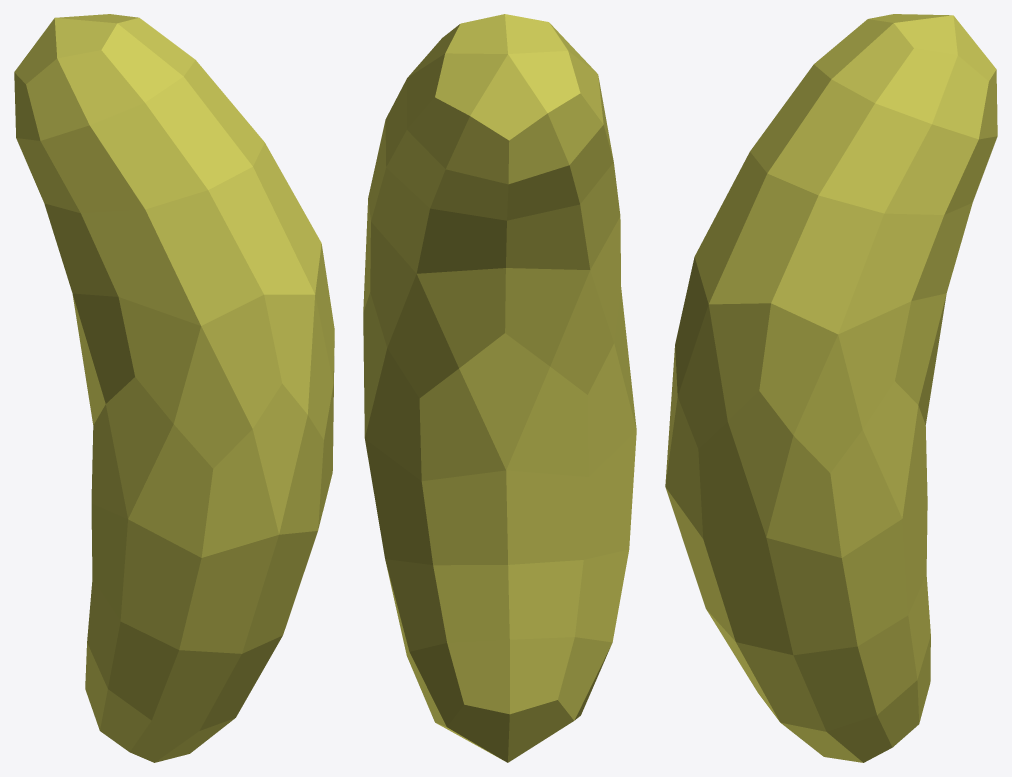
File: Platano.fbx
The picture shows the model from 3 angles, left to right: view 1: azimuth 30°, elevation 25°; view 2: azimuth 150°, elevation 25°; view 3: azimuth 270°, elevation 25°; orthographic projection. The views are drawn at different scales.
Visible parts, largest first — view 1: Icosphere; view 2: Icosphere; view 3: Icosphere.
Boxes of the visible parts, x1,y1,x2,y2 form: Icosphere: (14,14,334,762); Icosphere: (363,14,636,762); Icosphere: (665,14,997,762).
Size of the model in its own units: 87.14 by 101 by 241.
